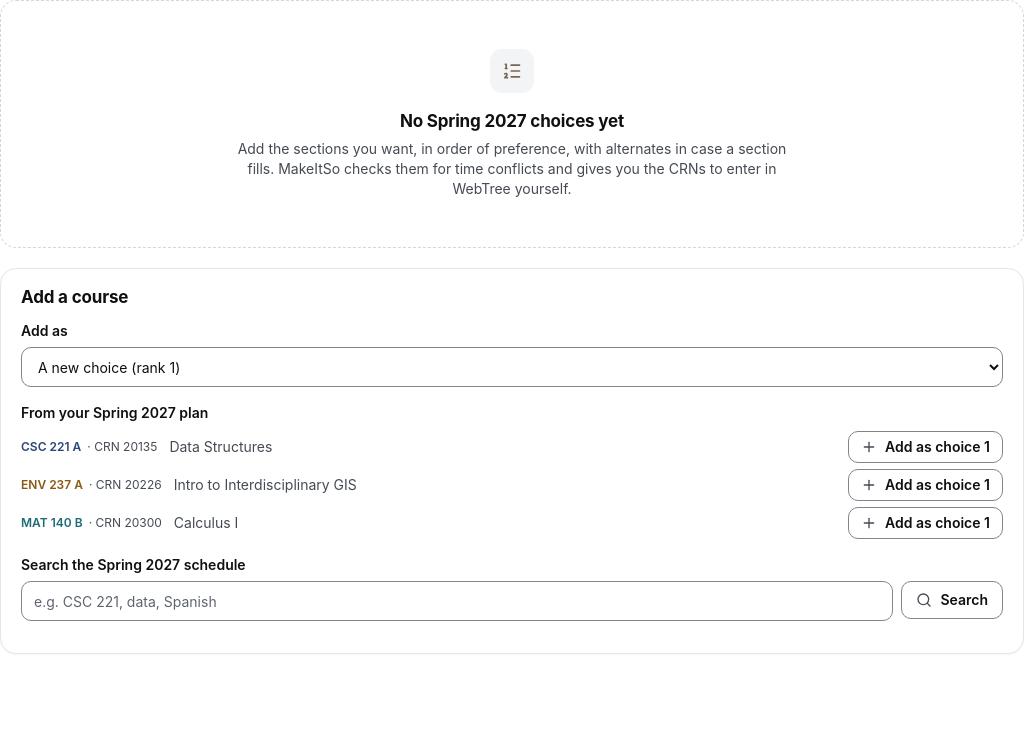
Test: WebTreeEditor › adds a planned section in one press, with no picker, and moves on to the next planned course
Click the button "Add as choice 1" in the row of "CSC 221" at (926, 447), box [848,431,1003,463]
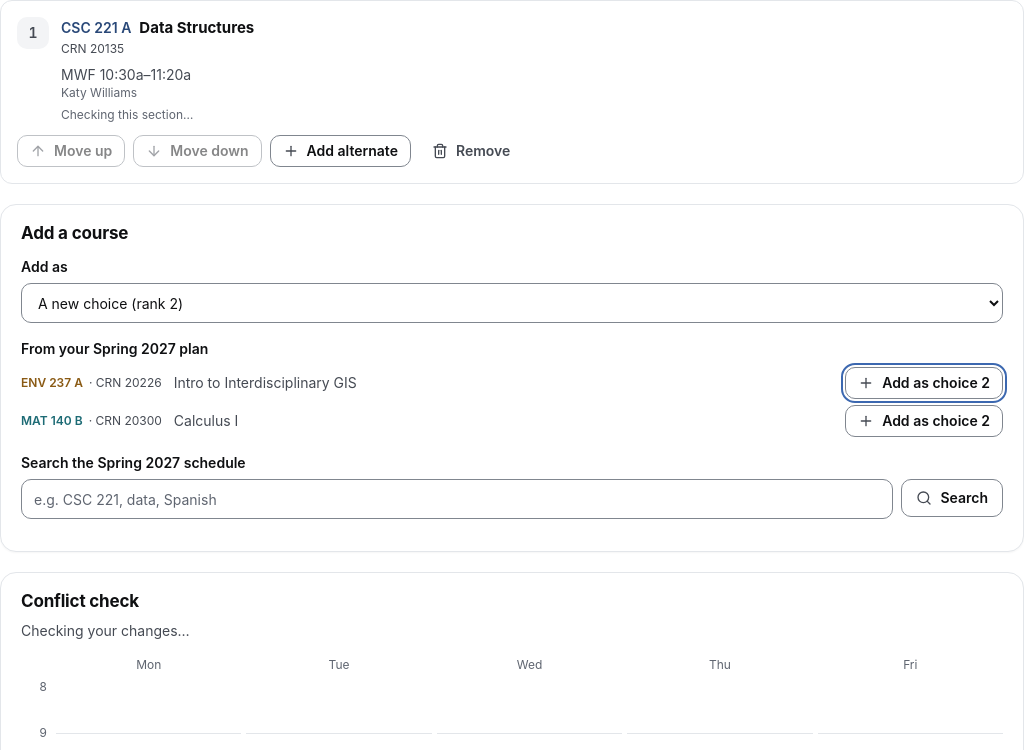
Expected: the number of list items with test id "webtree-choice" is 1, [0,0,1023,184]
Press Enter
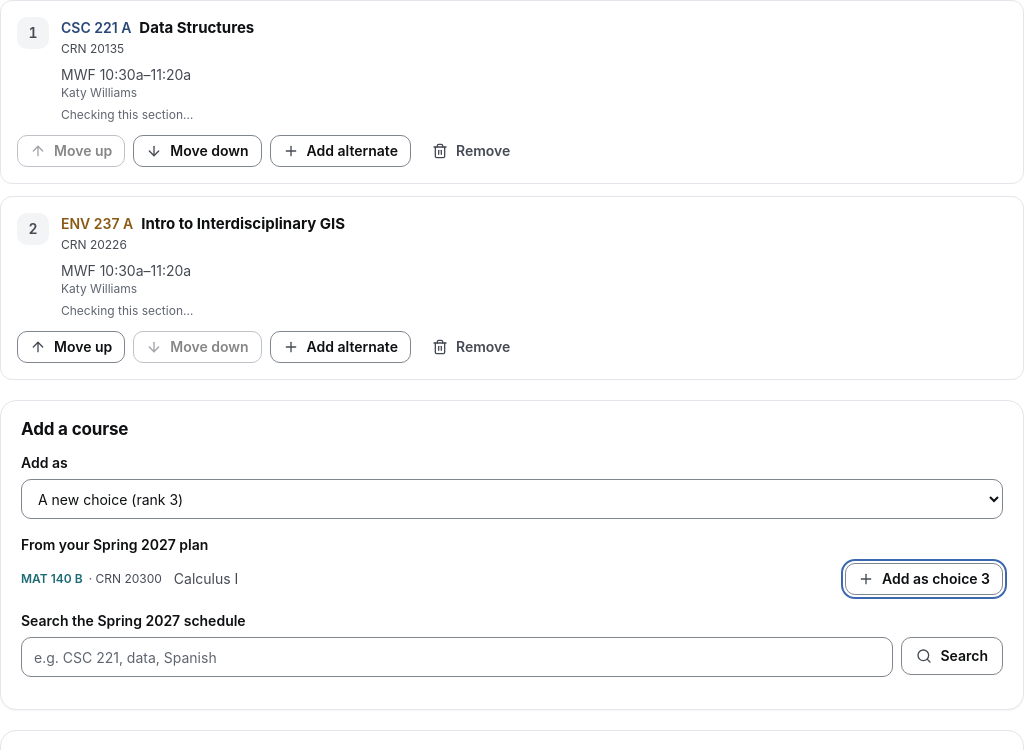
Click the button with aria-label "Add as choice 3: MAT 140 section B, CRN 20300" at (924, 579), box [845,563,1003,595]
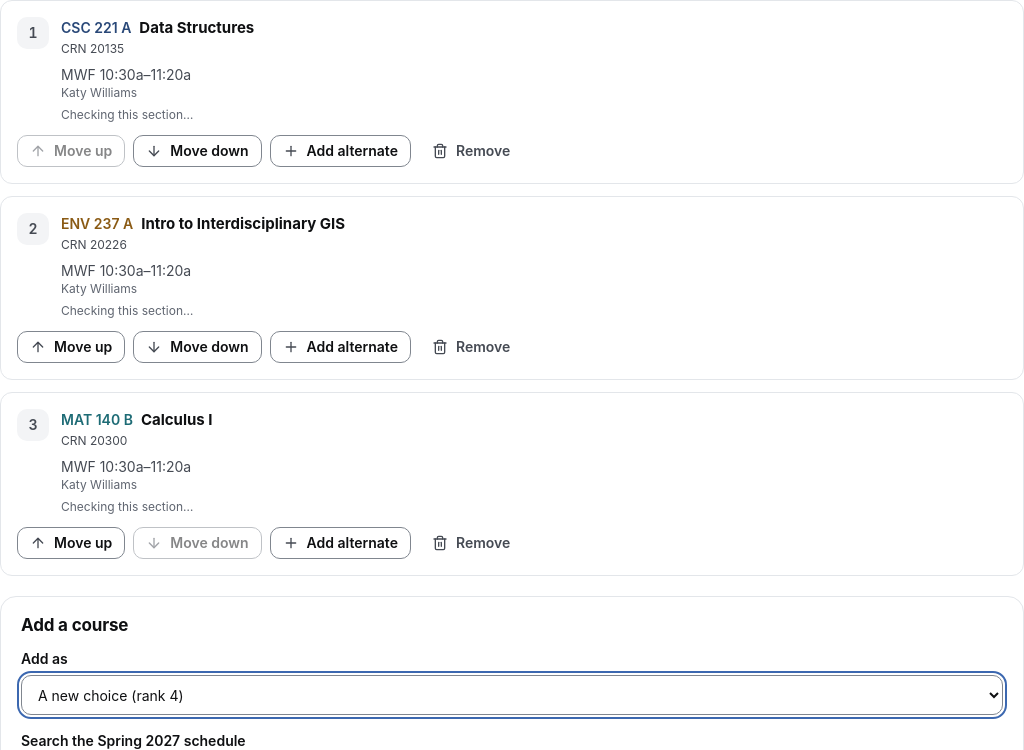
Expected: the number of list items with test id "webtree-choice" is 3, [0,0,1023,184]; [0,196,1023,380]; [0,392,1023,576]
Expected: no list items with test id "plan-course" are shown
